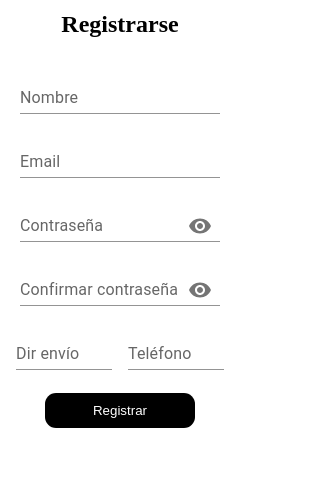
it: Register component › U8F-006: Validar longitud mínima de contraseña.
Type "1234567" into the password field labelled "Contraseña" at coordinates (96, 226), box [20, 210, 172, 242]
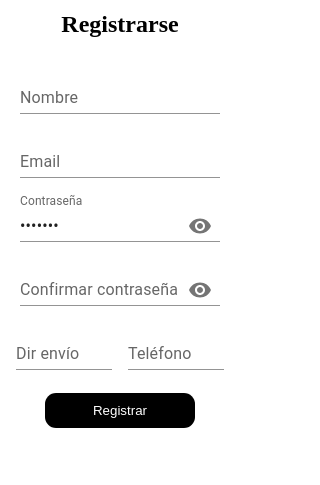
Click the button "Registrar" at coordinates (120, 410), box [45, 393, 195, 428]
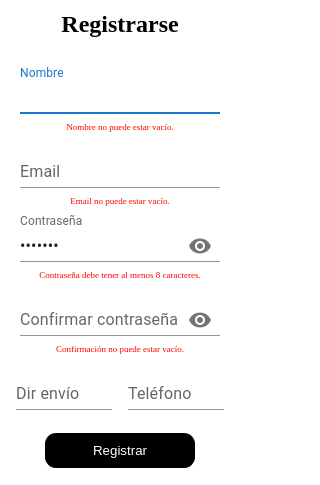
Expected: the text with test id "PasswordAlerts" reads "Contraseña debe tener al menos 8 caracteres.", [39, 270, 201, 280]
